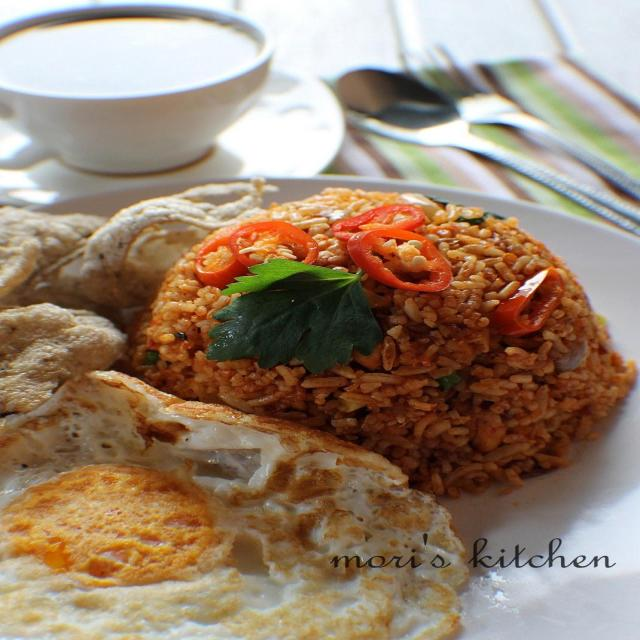Nasi Goreng: (164, 197, 615, 481)
